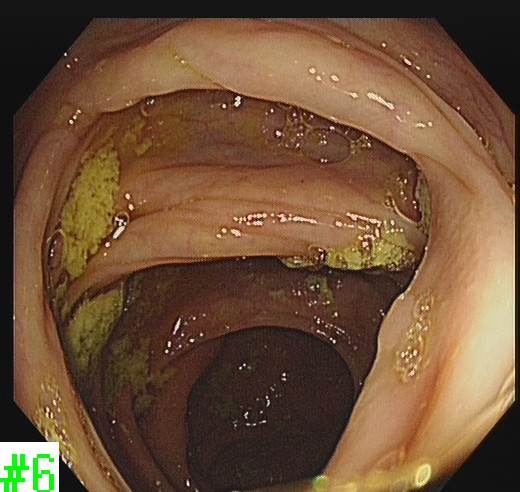others: (374, 290, 421, 357)
